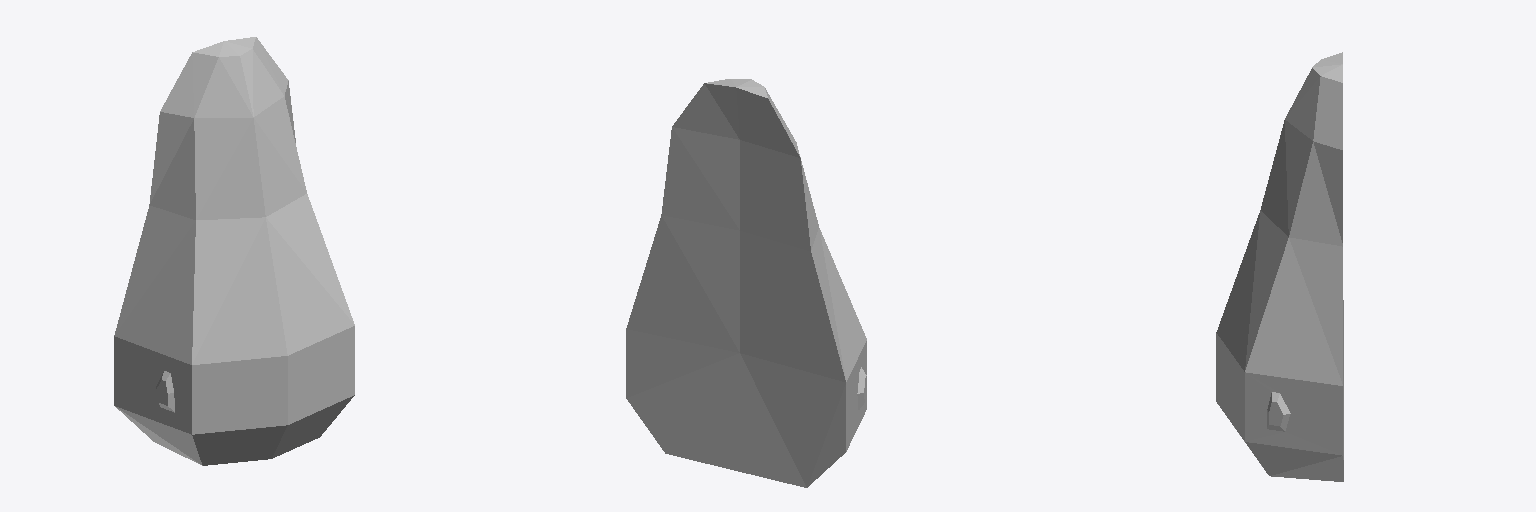
File: serpent_tjaw.obj
The picture shows the model from 3 angles: view 1: azimuth 30°, elevation 25°; view 2: azimuth 150°, elevation 25°; view 3: azimuth 270°, elevation 25°; orthographic projection.
Visible parts, largest first — view 1: Head_Top; view 2: Head_Top; view 3: Head_Top.
Part boxes in pixels (left/top/right/bottom): Head_Top: left=114, top=37, right=354, bottom=465; Head_Top: left=626, top=79, right=866, bottom=487; Head_Top: left=1216, top=52, right=1343, bottom=481.
Bounding box in the file's own units: 2 × 3.33 × 1.